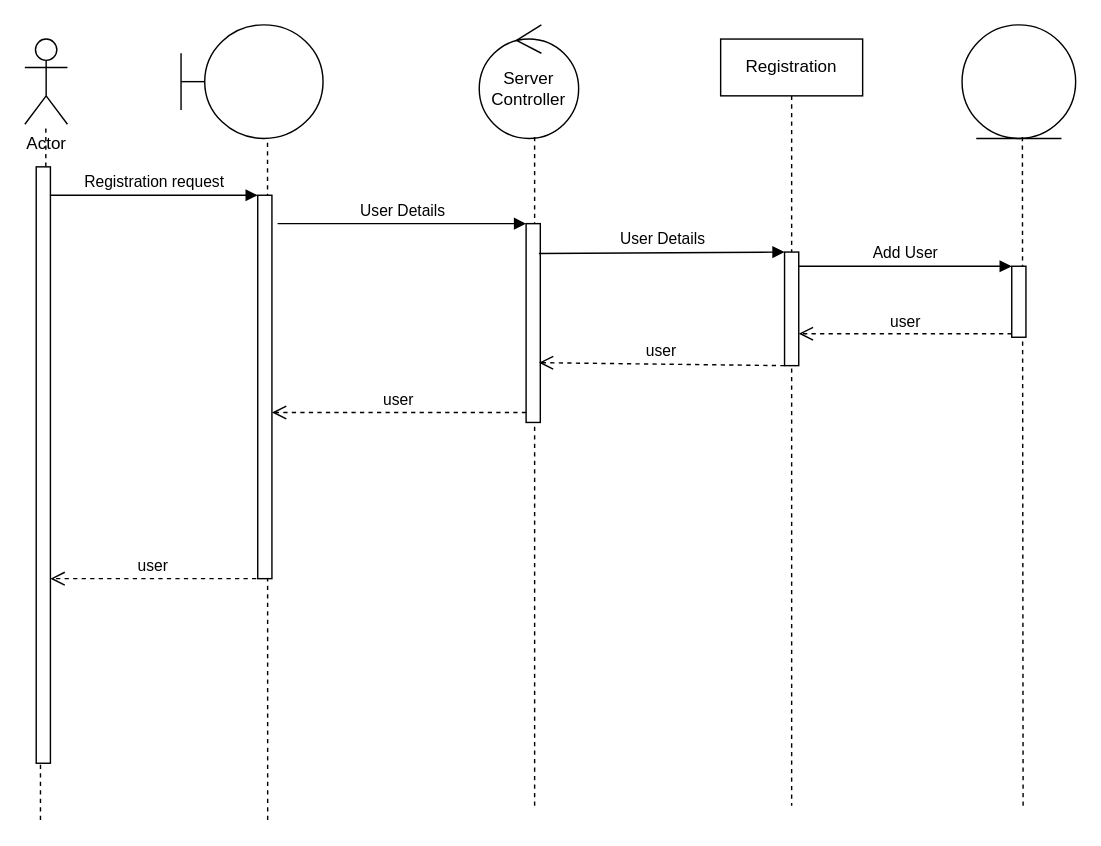
Some shapes in this 1101 by 846 pixel diagram are drawn without their labels. Here are the shapes that lost their labels. From the top down, the box of each, then its label:
(180, 23, 323, 138): User Interface
(961, 23, 1076, 138): MySQL Database
